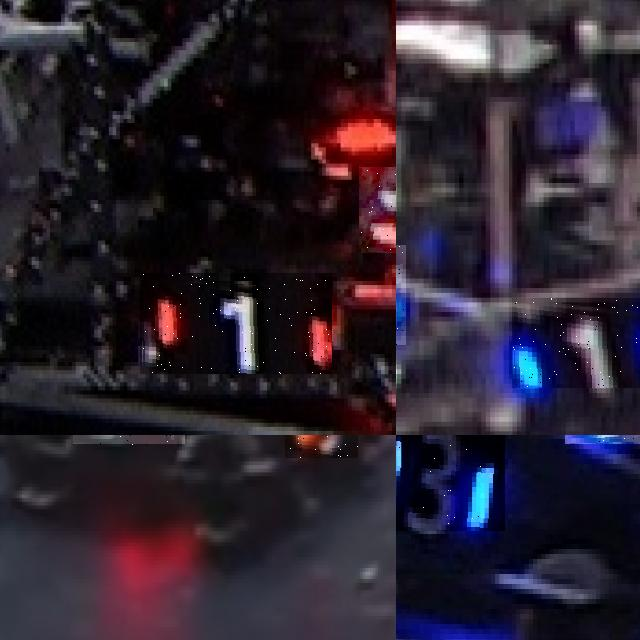B1: (512, 297, 640, 388)
B3: (396, 435, 505, 531)
R1: (140, 273, 332, 374), (358, 167, 396, 252)
R5: (285, 435, 357, 457)
